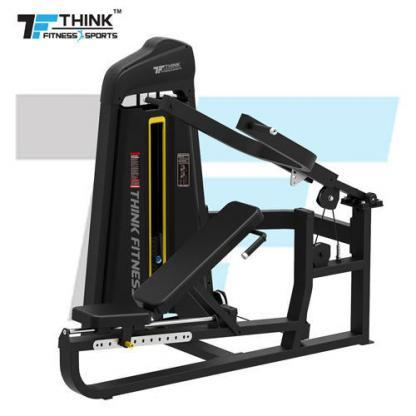shoulder press machine: (56, 37, 383, 402)
